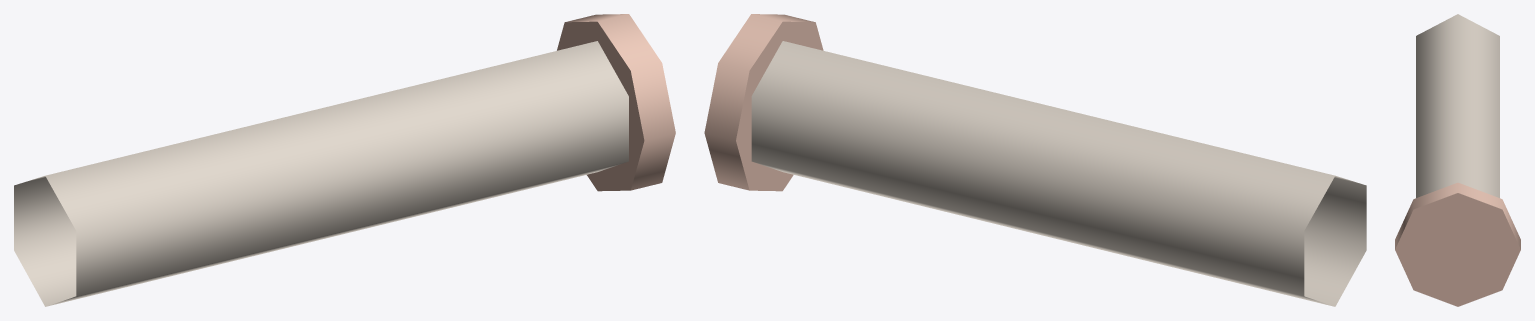
3 renders of one model, left to right at view 1: azimuth 30°, elevation 25°; view 2: azimuth 150°, elevation 25°; view 3: azimuth 270°, elevation 25°, orthographic. The views are drawn at different scales.
Visible parts, largest first — view 1: Object58; view 2: Object58; view 3: Object58.
Boxes of the visible parts, x1,y1,x2,y2 form: Object58: [14, 14, 675, 306]; Object58: [704, 14, 1366, 306]; Object58: [1395, 14, 1520, 306].
Bounding box in the file's own units: 33381 × 9262 × 9262.
